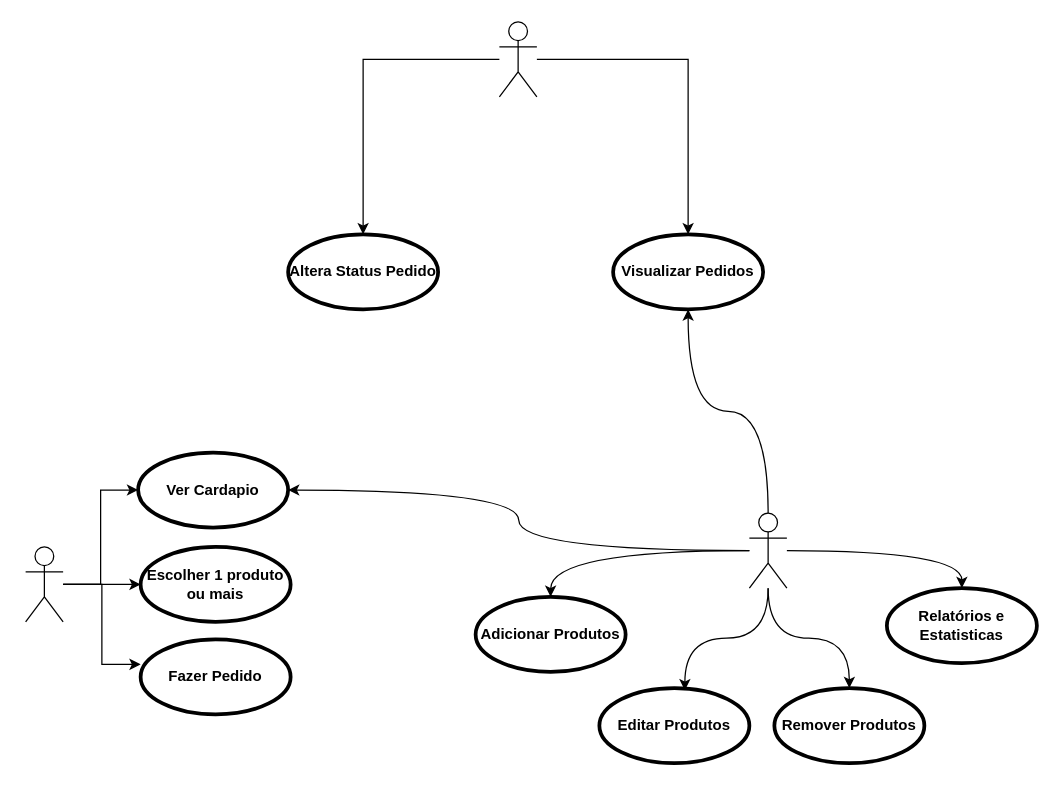
Some shapes in this 1060 by 786 pixel diagram are drawn without their labels. The centre of each missing label's shape, as x and y in pixels:
"Administrador" belongs at (767,550).
"Cliente" belongs at (43,584).
"Cozinha" belongs at (517,59).
